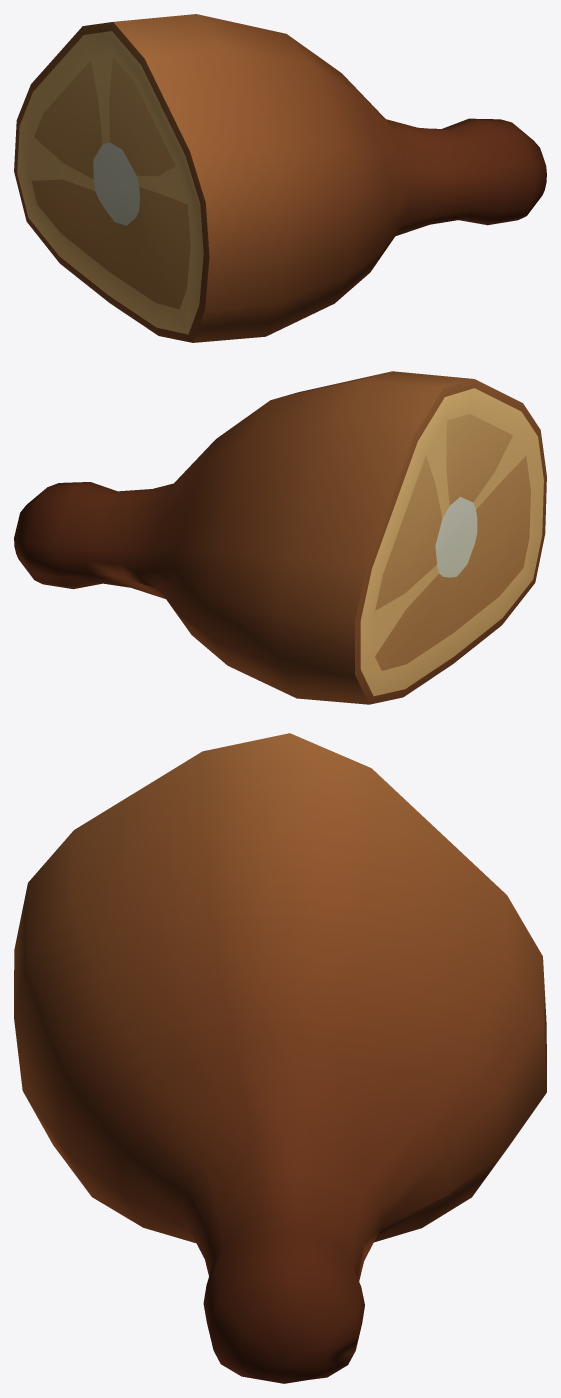
The model's file is Ham_02.glb.
3 renders of one model, top to bottom at view 1: azimuth 30°, elevation 25°; view 2: azimuth 150°, elevation 25°; view 3: azimuth 270°, elevation 25°, orthographic. The views are drawn at different scales.
Visible parts, largest first — view 1: Ham_02; view 2: Ham_02; view 3: Ham_02.
Boxes of the visible parts, <box> form: Ham_02: <box>14,14,546,342</box>; Ham_02: <box>14,371,546,704</box>; Ham_02: <box>14,733,546,1383</box>.
Size of the model in its own units: 0.7802 by 0.5008 by 0.6114.
1 material, 1 textured.
